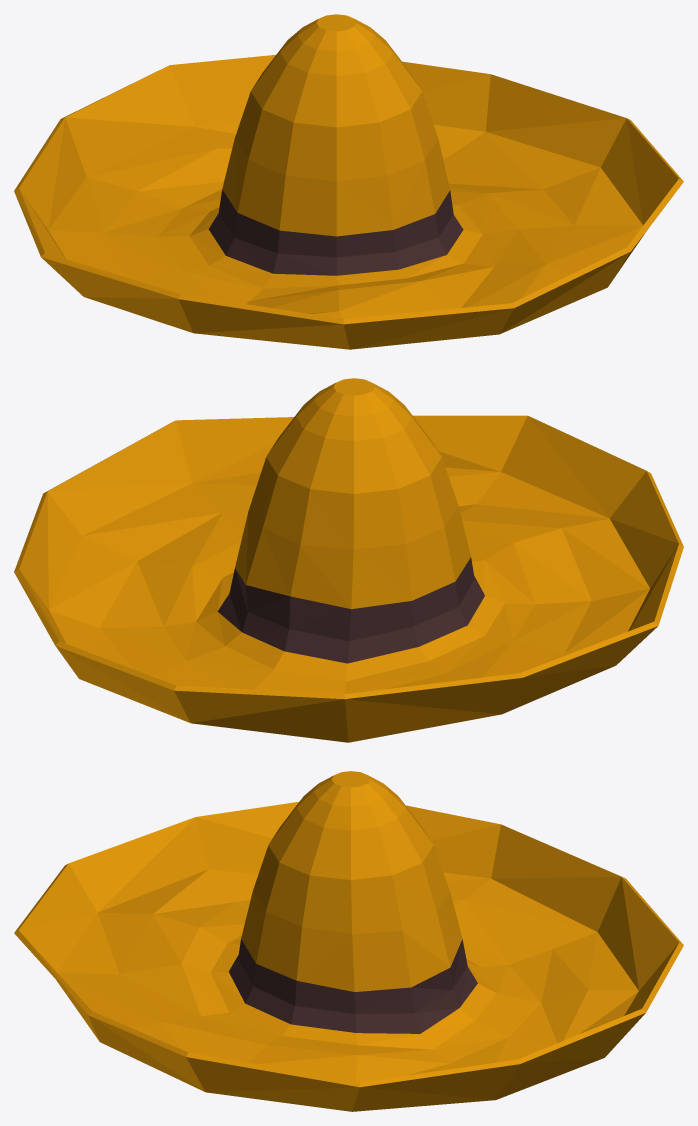
The model's file is Sombrero.dae.
3 renders of one model, top to bottom at view 1: azimuth 30°, elevation 25°; view 2: azimuth 150°, elevation 25°; view 3: azimuth 270°, elevation 25°, orthographic. The views are drawn at different scales.
Visible parts, largest first — view 1: Circle; view 2: Circle; view 3: Circle.
Boxes of the visible parts, x1=… form: Circle: x1=14, y1=14, x2=683, y2=349; Circle: x1=14, y1=378, x2=683, y2=742; Circle: x1=14, y1=771, x2=683, y2=1111.
Size of the model in its own units: 2.29 by 2.32 by 0.8696.
